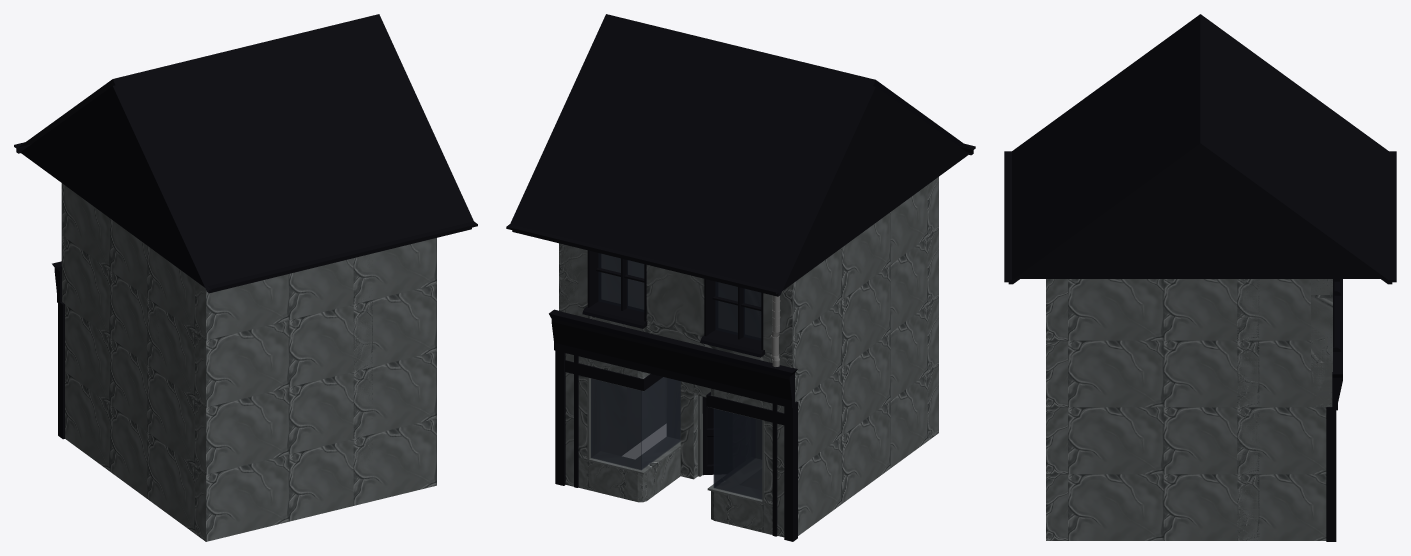
The model's file is Enemy shop.fbx.
The picture shows the model from 3 angles, left to right: view 1: azimuth 30°, elevation 25°; view 2: azimuth 150°, elevation 25°; view 3: azimuth 270°, elevation 25°; orthographic projection.
Parts seen in each view (by area): view 1: Cube.081; view 2: Cube.081; view 3: Cube.081.
Boxes of the visible parts, x1,y1,x2,y2 form: Cube.081: (14,14,477,541); Cube.081: (506,14,975,541); Cube.081: (1004,14,1396,541).
Size of the model in its own units: 831 by 1221 by 1065.
